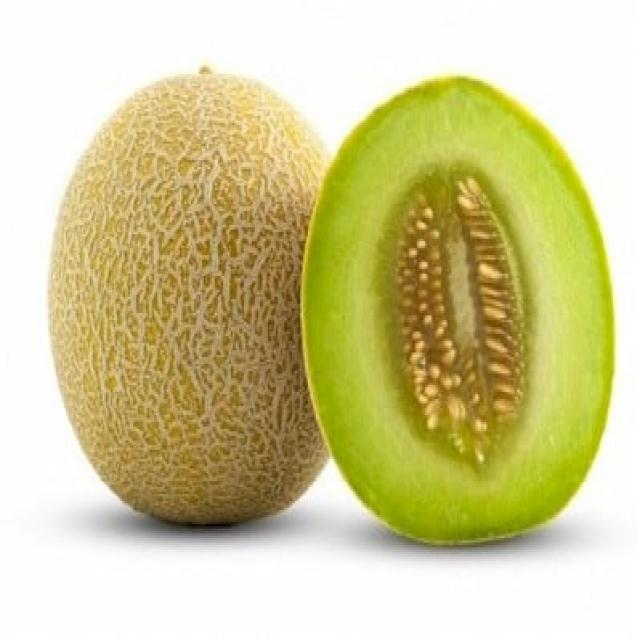melon: (284, 63, 617, 554), (37, 56, 330, 536)
